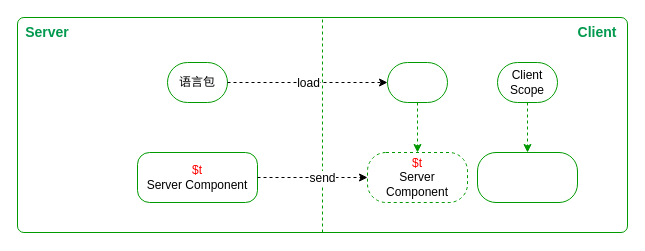
Some shapes in this 645 by 251 pixel diagram are drawn without their labels. Each missing label, with the box of its shape:
Server Scope: (386, 62, 448, 102)
t Client Component: (476, 152, 578, 202)
